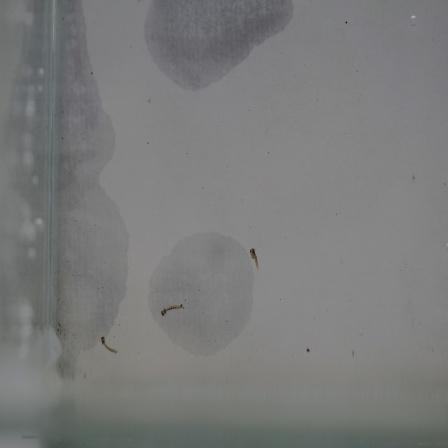Jentik-Nyamuk: (156, 299, 192, 321), (95, 332, 123, 359), (247, 244, 265, 273)
